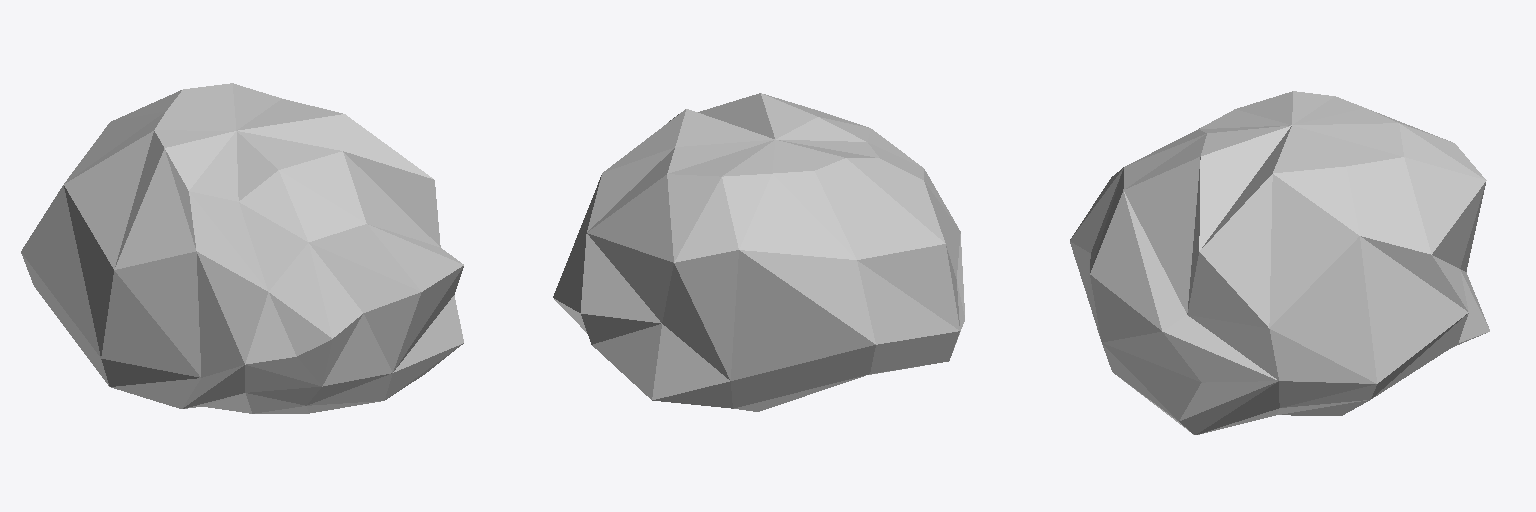
Rendered from Bush.obj.
3 views of the same model, side by side, from view 1: azimuth 30°, elevation 25°; view 2: azimuth 150°, elevation 25°; view 3: azimuth 270°, elevation 25° (orthographic).
Parts seen in each view (by area): view 1: Bush.003_leaves.006; view 2: Bush.003_leaves.006; view 3: Bush.003_leaves.006.
Boxes of the visible parts, box(x1,y1,x2,y2) form: Bush.003_leaves.006: box(21, 83, 463, 413); Bush.003_leaves.006: box(553, 93, 964, 411); Bush.003_leaves.006: box(1070, 91, 1489, 434).
Bounding box in the file's own units: 2.84 × 1.98 × 2.99.